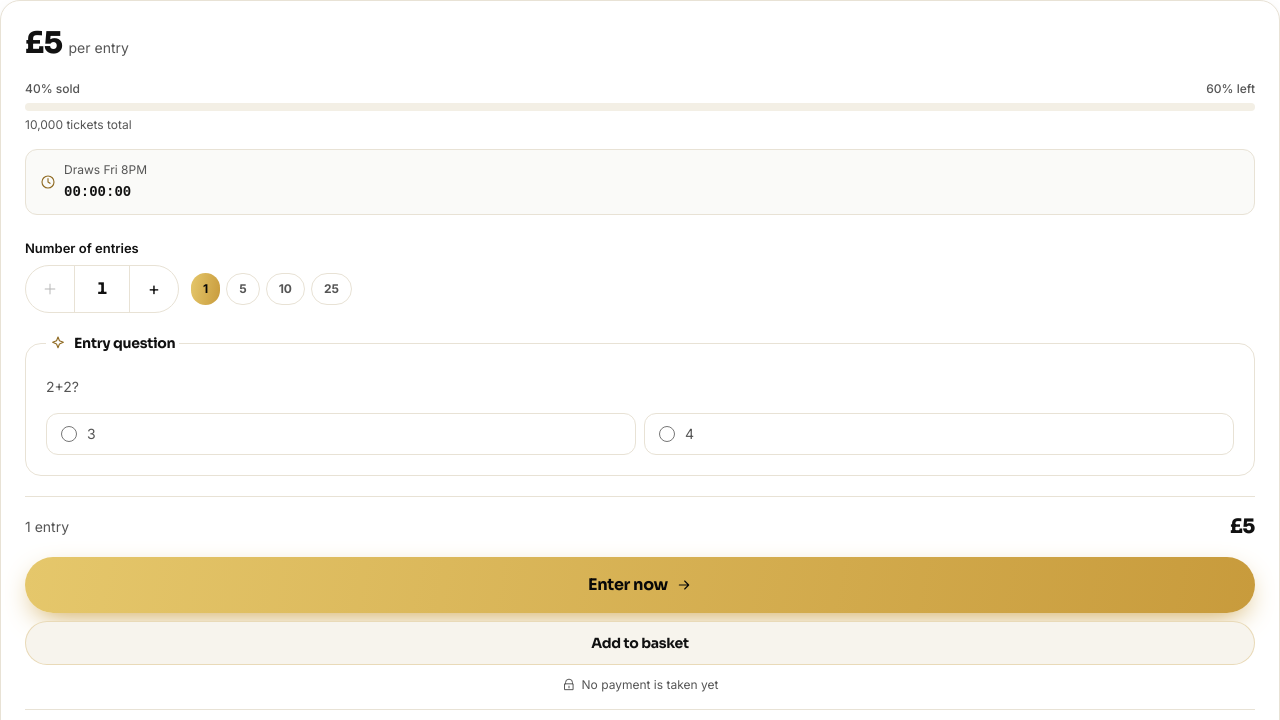
EntrySelector › surfaces a validation error instead of pretending the item was added
Step 1. Click the button "Add to basket" → coordinates (640, 643), box [25, 621, 1255, 665]
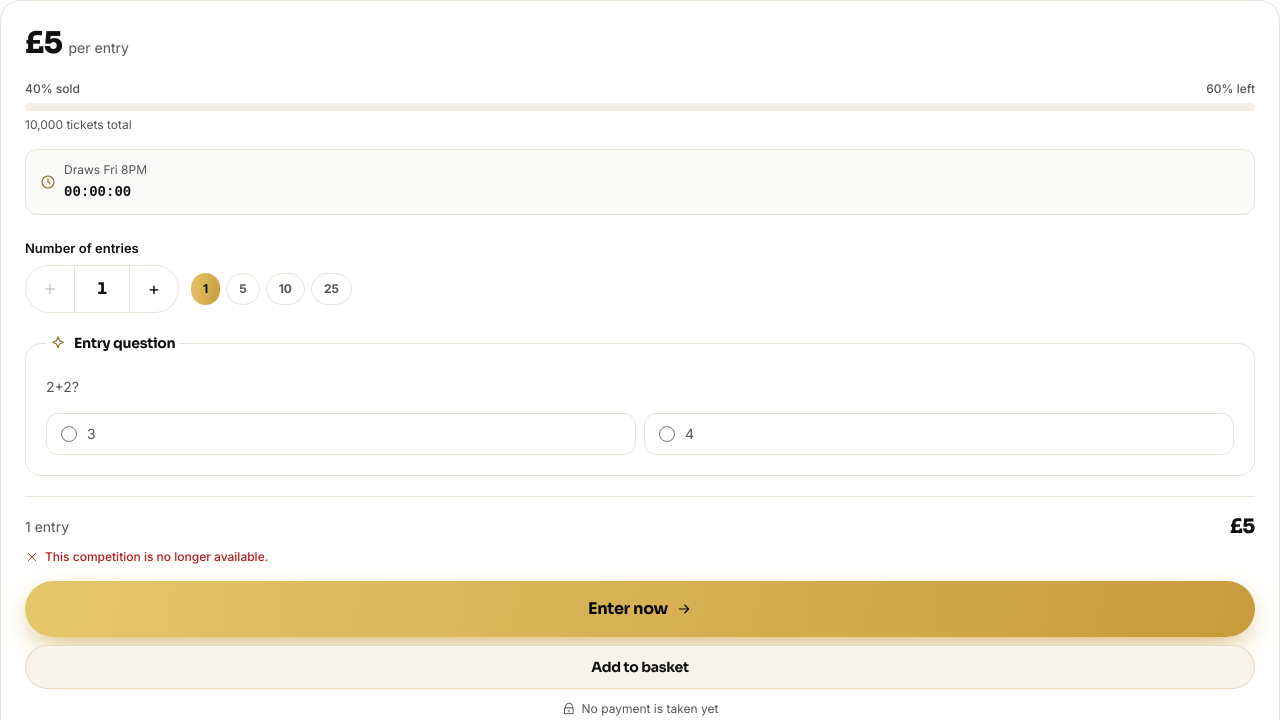
Expected: the text "This competition is no longer available." is shown, [25, 549, 268, 564]
